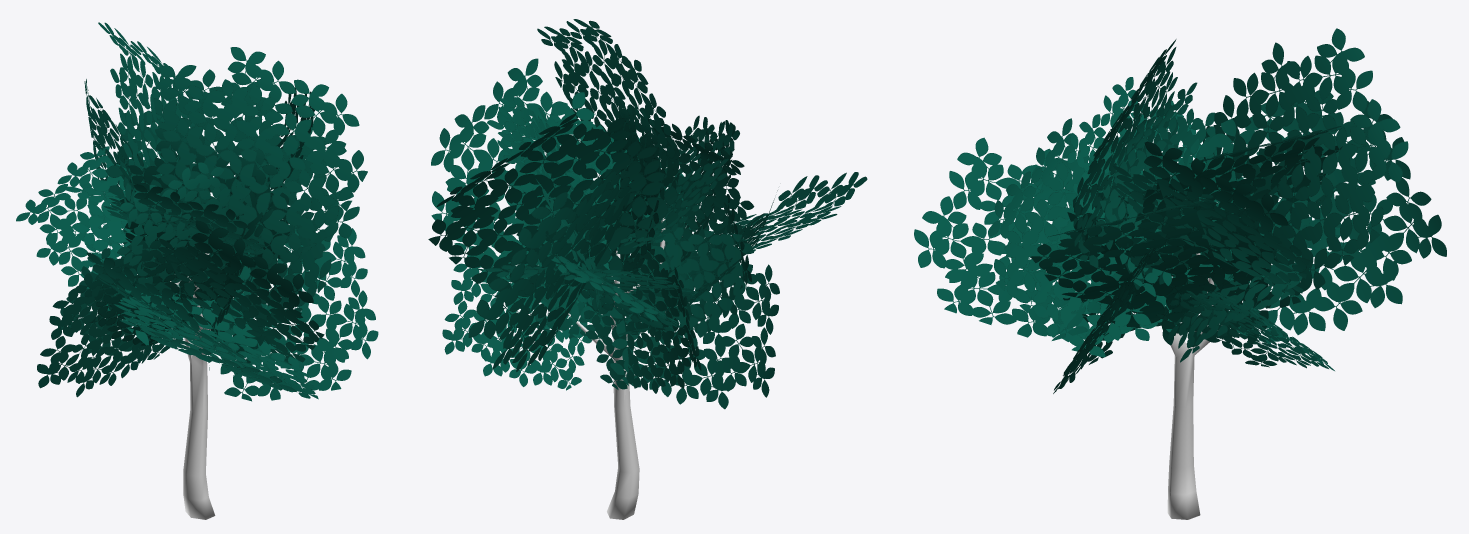
The model's file is Tree_01.fbx.
3 renders of one model, left to right at view 1: azimuth 30°, elevation 25°; view 2: azimuth 150°, elevation 25°; view 3: azimuth 270°, elevation 25°, orthographic. The views are drawn at different scales.
Visible parts, largest first — view 1: Tree_1; view 2: Tree_1; view 3: Tree_1.
Part boxes in pixels (x1,y1,x2,y2): Tree_1: (16,22,378,519); Tree_1: (428,19,867,519); Tree_1: (914,28,1446,519).
Size of the model in its own units: 22.38 by 33.24 by 33.98.
2 materials, 1 textured.
